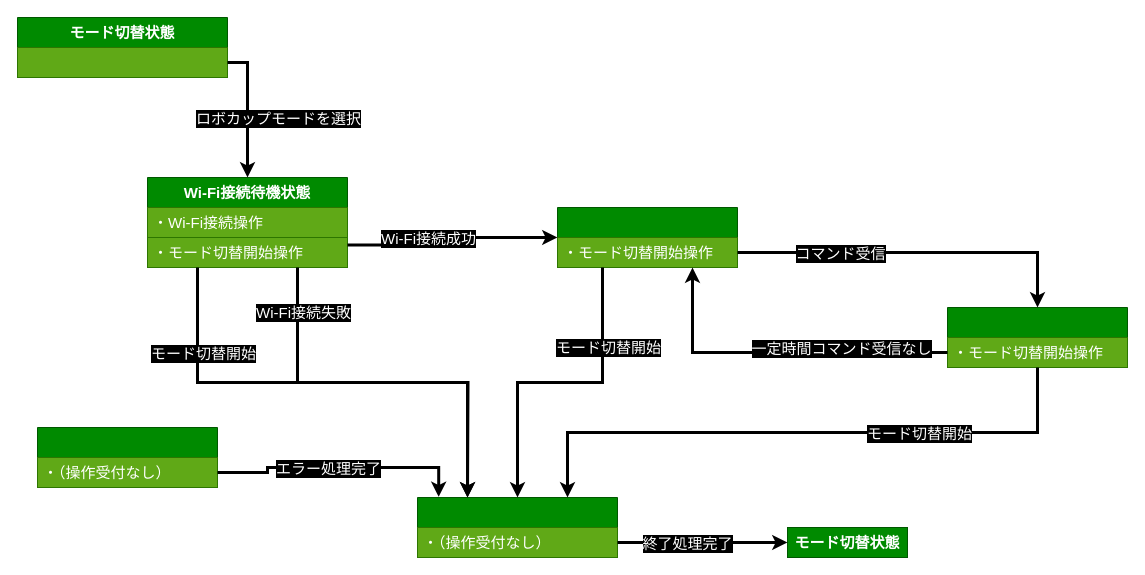
Some shapes in this 1145 by 575 pixel diagram are drawn without their labels. The shapes that lost their labels are listed below. From the top down, each one's box as (x1, y1, x2, y2) in pixels, then its label:
(16, 46, 228, 78): ・モード選択操作
(556, 206, 738, 268): コマンド受信待機状態
(946, 306, 1128, 368): アクティブ状態
(36, 426, 218, 488): エラー状態
(416, 496, 618, 558): モード終了状態
